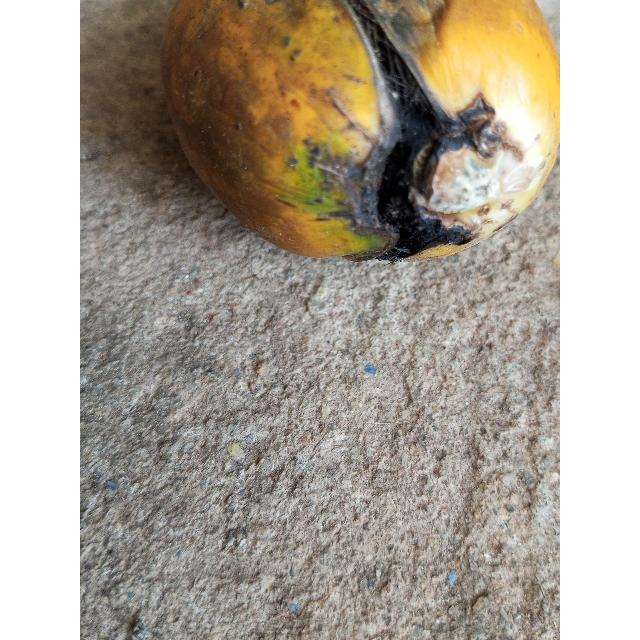damaged: (163, 0, 560, 261)
